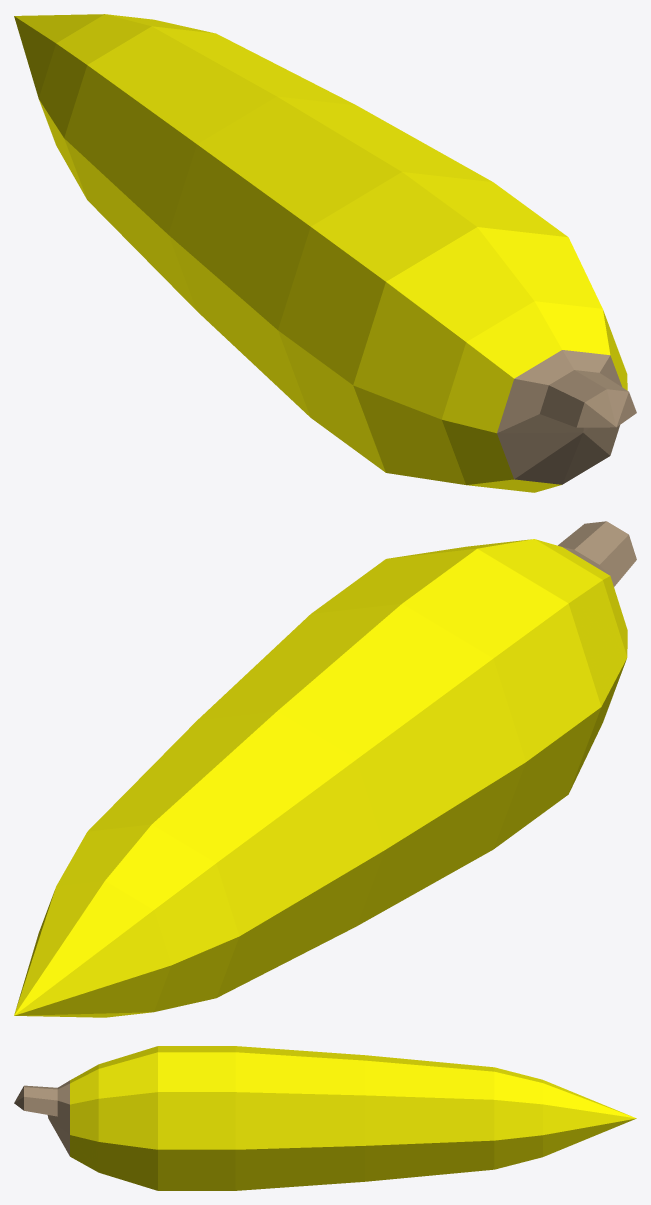
Rendered from Corn Shucked.fbx.
The picture shows the model from 3 angles, top to bottom: view 1: azimuth 30°, elevation 25°; view 2: azimuth 150°, elevation 25°; view 3: azimuth 270°, elevation 25°; orthographic projection. The views are drawn at different scales.
Parts seen in each view (by area): view 1: Corn Shucked; view 2: Corn Shucked; view 3: Corn Shucked.
Part boxes in pixels (left/top/right/bottom): Corn Shucked: left=14, top=14, right=636, bottom=492; Corn Shucked: left=14, top=521, right=636, bottom=1017; Corn Shucked: left=14, top=1046, right=636, bottom=1190.
Size of the model in its own units: 5.11 by 5.04 by 21.49.
